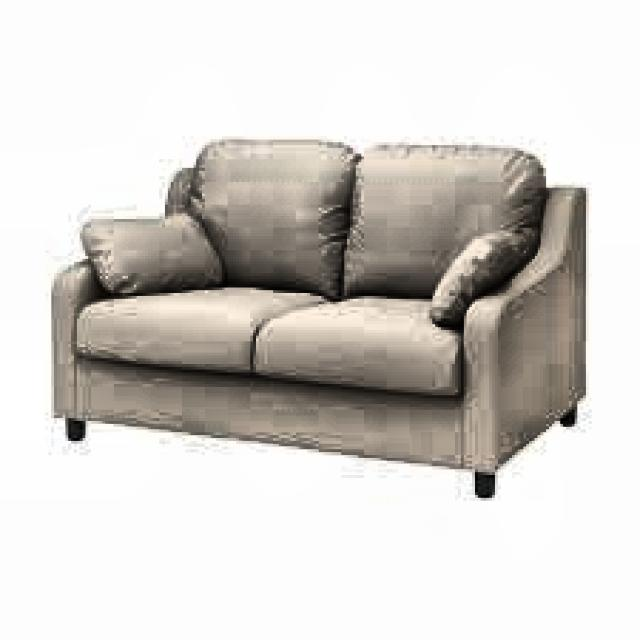sofa: (37, 140, 594, 510)
